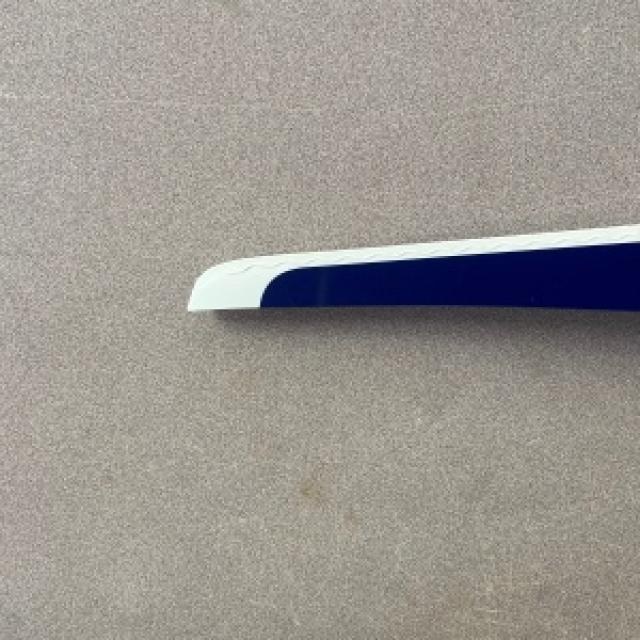healthy: (186, 222, 638, 307)
